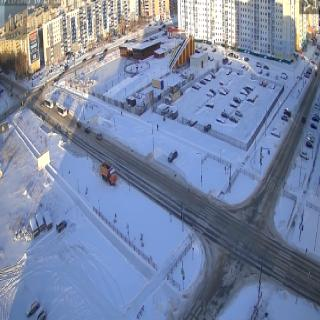large-vehicle: (98, 159, 120, 188), (56, 104, 68, 121), (44, 96, 54, 109)
small-vehicle: (271, 122, 281, 140), (168, 147, 178, 163), (94, 131, 104, 144), (306, 136, 316, 149), (160, 103, 170, 116), (279, 70, 289, 82), (85, 122, 93, 136), (284, 104, 292, 118), (301, 146, 309, 160), (219, 85, 226, 100), (171, 108, 179, 120), (189, 118, 198, 128), (280, 112, 288, 123), (203, 121, 211, 132), (221, 108, 229, 118), (235, 107, 243, 117), (241, 84, 247, 97), (231, 113, 238, 124), (205, 102, 214, 110), (206, 90, 215, 98), (222, 54, 228, 66), (232, 95, 242, 102), (217, 115, 225, 123), (192, 84, 200, 92), (248, 96, 255, 105), (229, 100, 236, 108), (204, 74, 211, 82), (210, 70, 216, 79), (310, 122, 316, 130), (200, 78, 206, 85), (225, 68, 231, 75), (262, 64, 269, 70), (262, 79, 267, 87), (77, 120, 82, 128), (266, 70, 271, 78), (258, 68, 264, 74), (244, 57, 250, 63), (224, 84, 228, 92), (228, 59, 232, 66), (256, 61, 260, 67), (220, 80, 223, 86), (260, 78, 262, 86)
